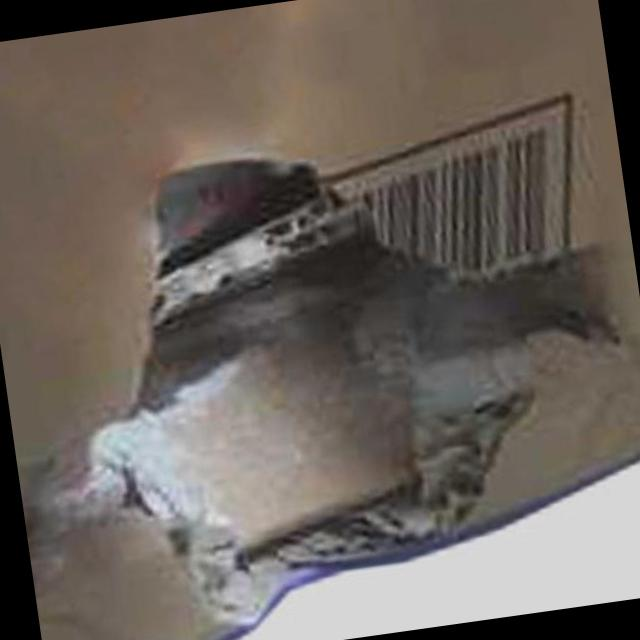box: (1, 1, 640, 640)
tear: (74, 158, 620, 619)
